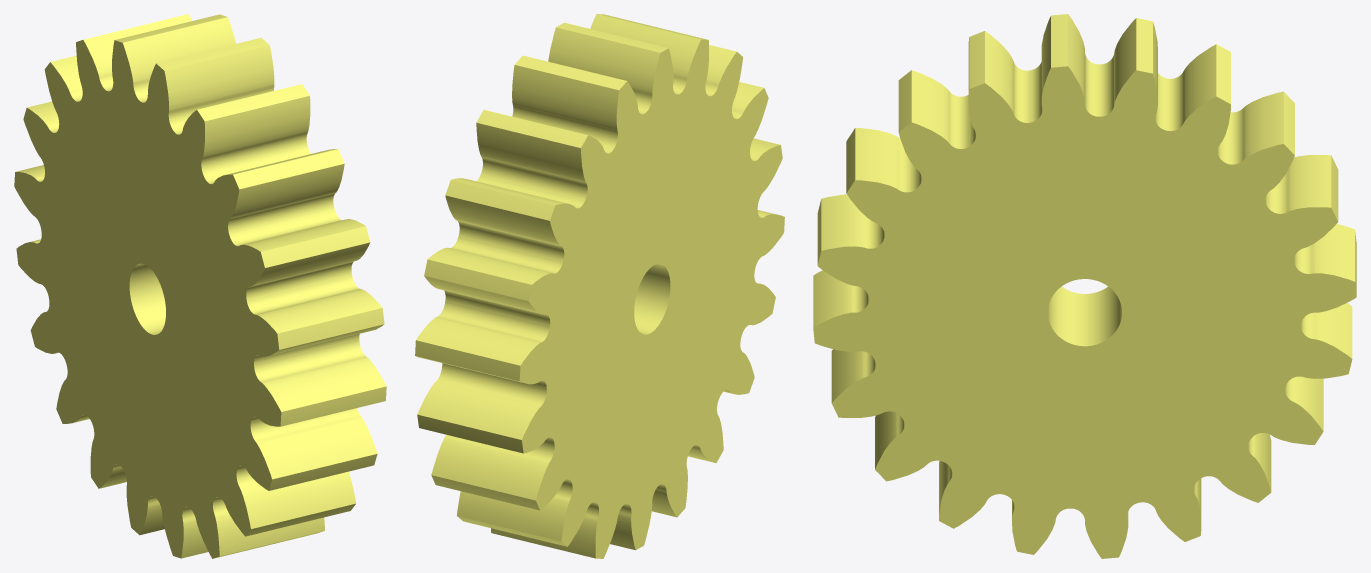
Rendered from engrane.gltf.
3 views of the same model, side by side, from view 1: azimuth 30°, elevation 25°; view 2: azimuth 150°, elevation 25°; view 3: azimuth 270°, elevation 25° (orthographic). The views are drawn at different scales.
Visible parts, largest first — view 1: 00114228_202504242243320813_0001; view 2: 00114228_202504242243320813_0001; view 3: 00114228_202504242243320813_0001.
Boxes of the visible parts, x1=… form: 00114228_202504242243320813_0001: x1=14, y1=14, x2=386, y2=558; 00114228_202504242243320813_0001: x1=415, y1=14, x2=784, y2=558; 00114228_202504242243320813_0001: x1=813, y1=14, x2=1356, y2=558.
Bounding box in the file's own units: 10 × 43.92 × 43.92.
